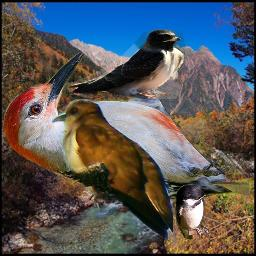Cuckoo: (52, 99, 173, 242)
Swallow: (66, 29, 185, 99), (174, 183, 211, 239)
Woodpecker: (4, 53, 249, 201)
